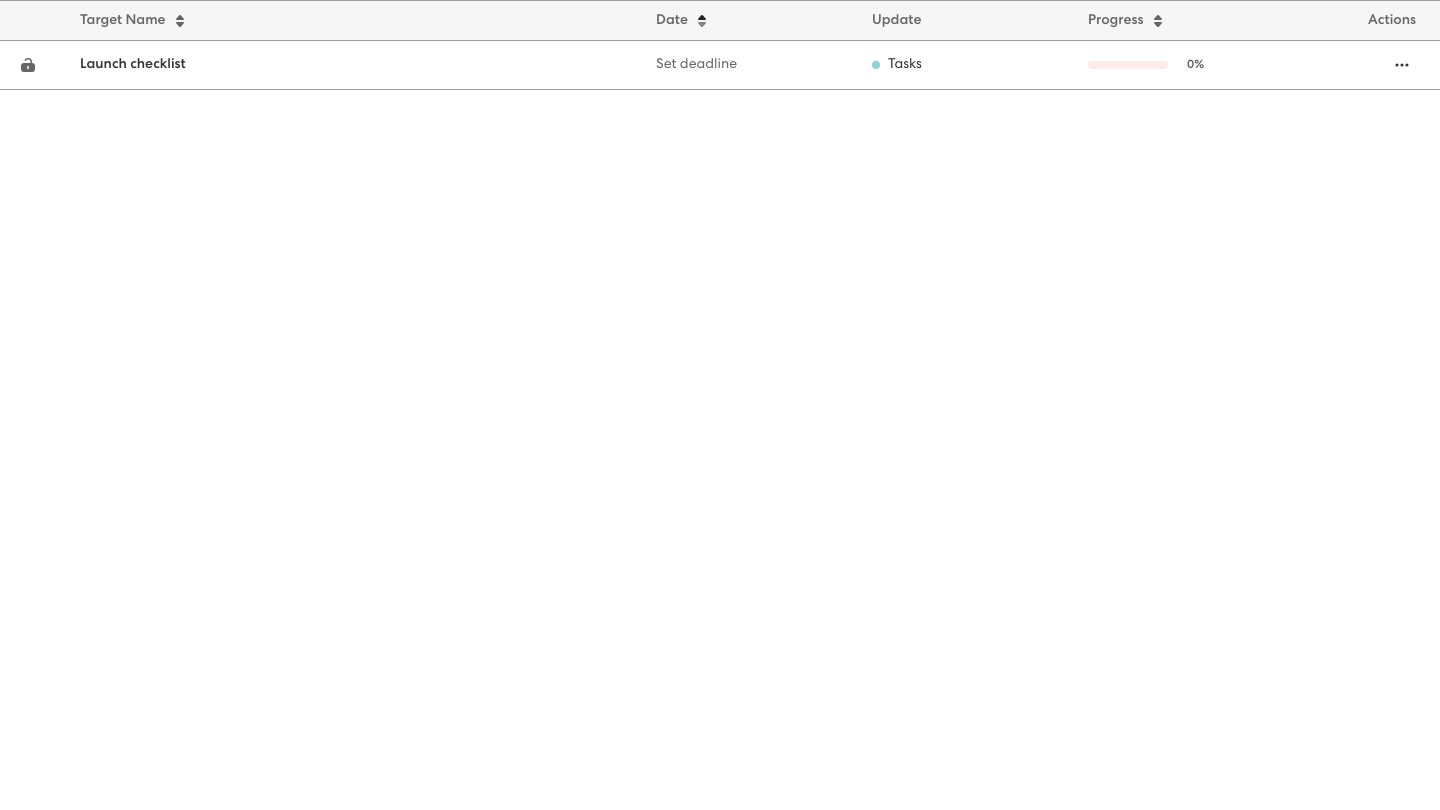
Test: DesktopTargetsTable — side panel only opens via Status column › opens the Tasks panel when clicking the Status button
Click the button "Tasks" at [897, 65], box [872,49,922,81]
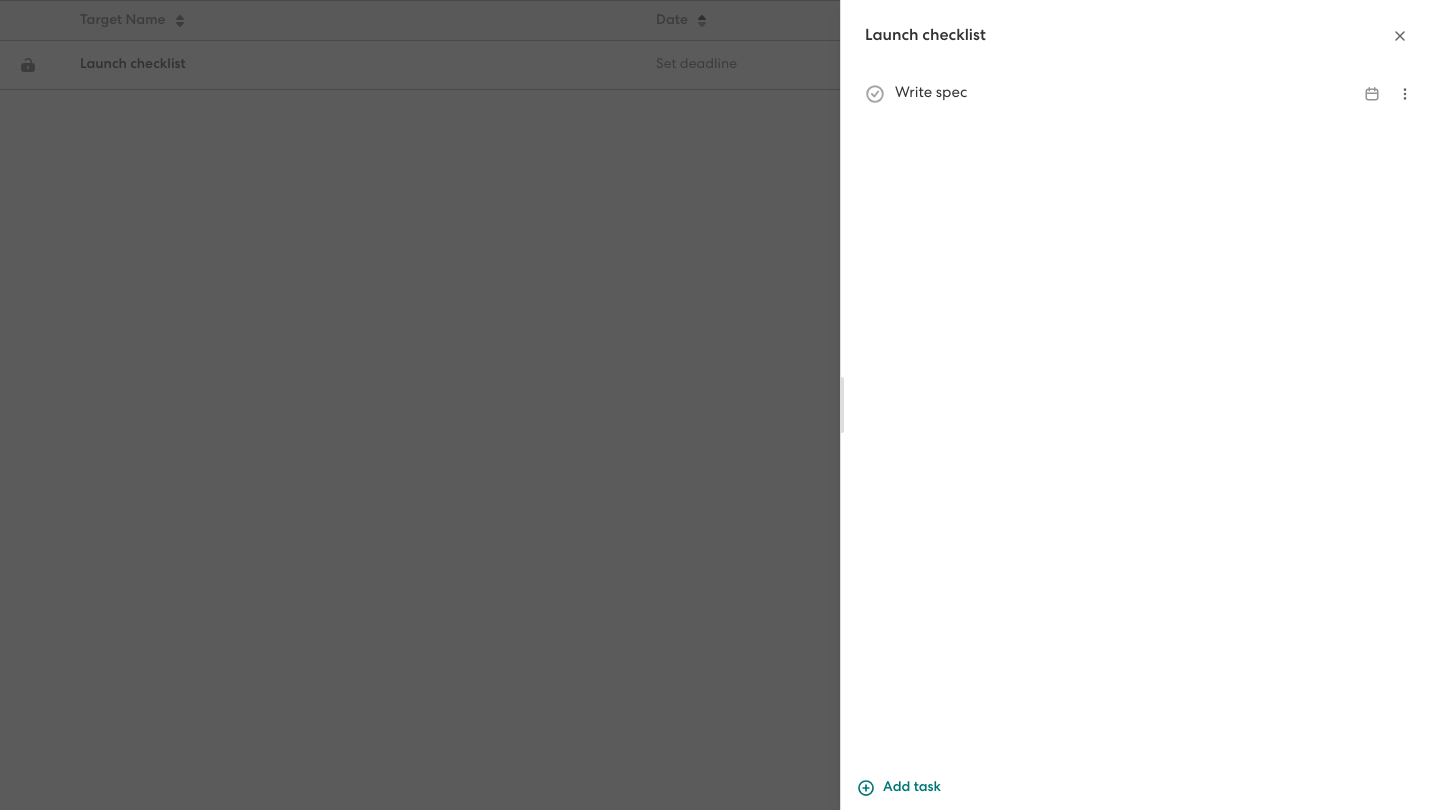
Expected: the button "Add task" is shown
Click the button "Add task" at [912, 788], box [841,766,1439,809]
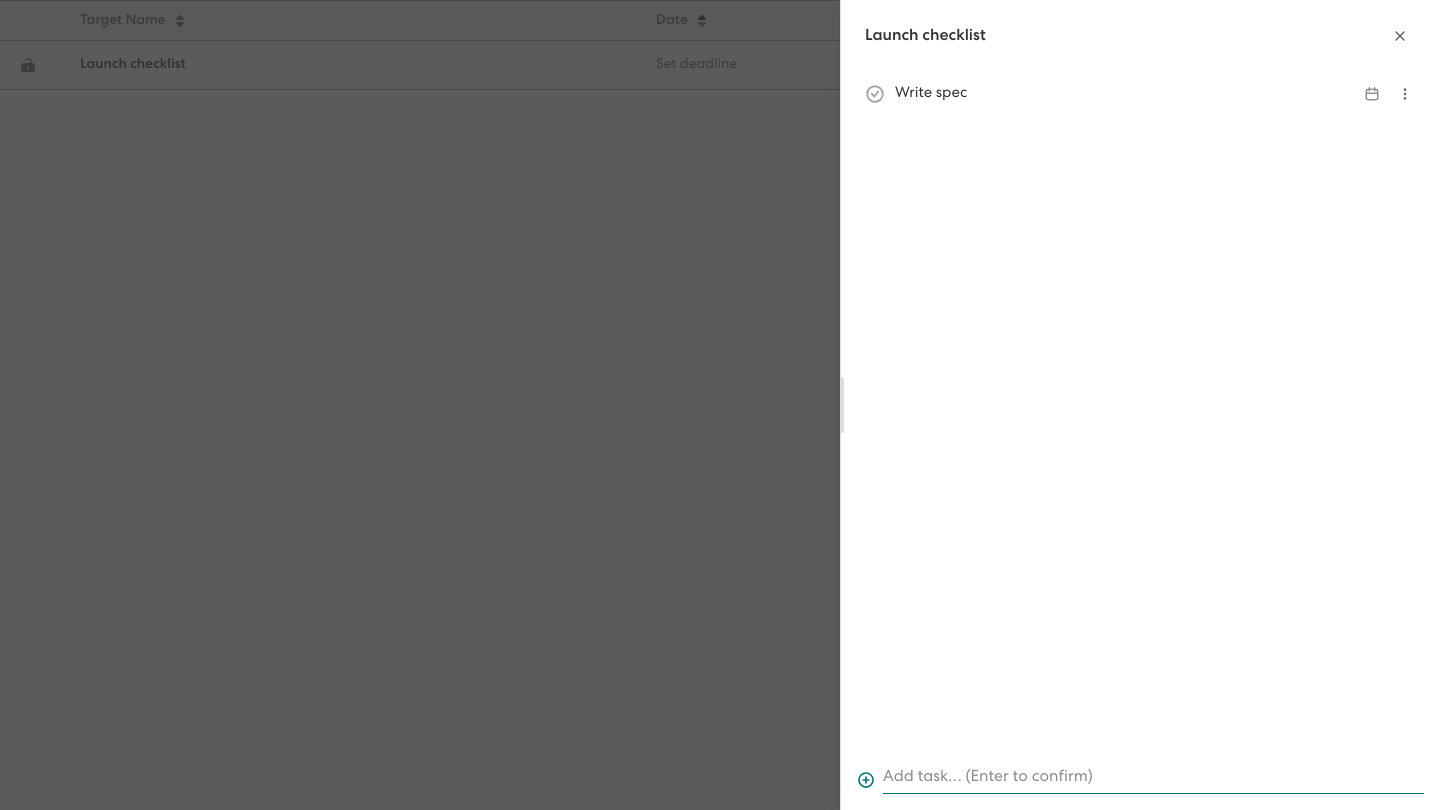
Expected: the field with placeholder "Add task… (Enter to confirm)" is shown, [883,765,1424,794]
